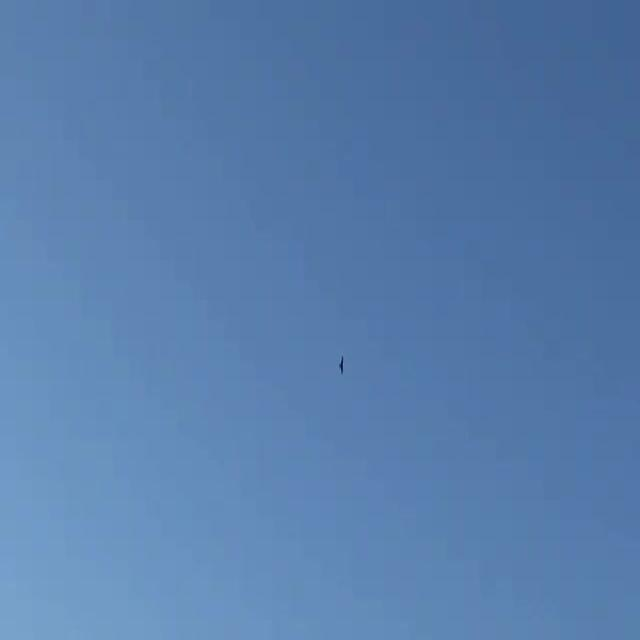bird: (327, 352, 349, 379)
